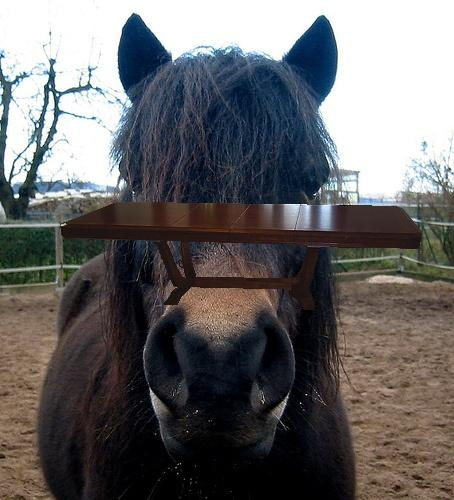tampered: (62, 203, 422, 310)
